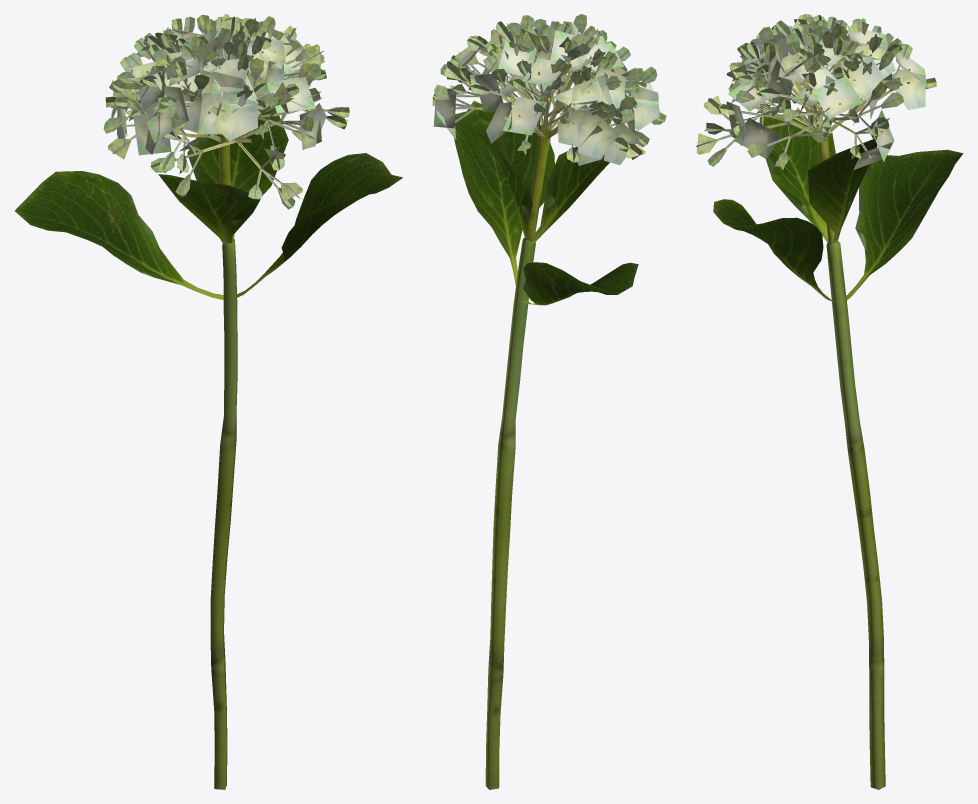
The model's file is Hydrangea_baby_normal_greenyellow.glb.
3 views of the same model, side by side, from view 1: azimuth 30°, elevation 25°; view 2: azimuth 150°, elevation 25°; view 3: azimuth 270°, elevation 25° (orthographic). The views are drawn at different scales.
Parts seen in each view (by area): view 1: BABY; view 2: BABY; view 3: BABY.
Part boxes in pixels (x1,y1,x2,y2): BABY: (15, 14, 402, 789); BABY: (432, 14, 666, 789); BABY: (696, 14, 963, 789).
Size of the model in its own units: 0.7928 by 2.22 by 0.7195.
Materials: 1 (1 with a texture image).
